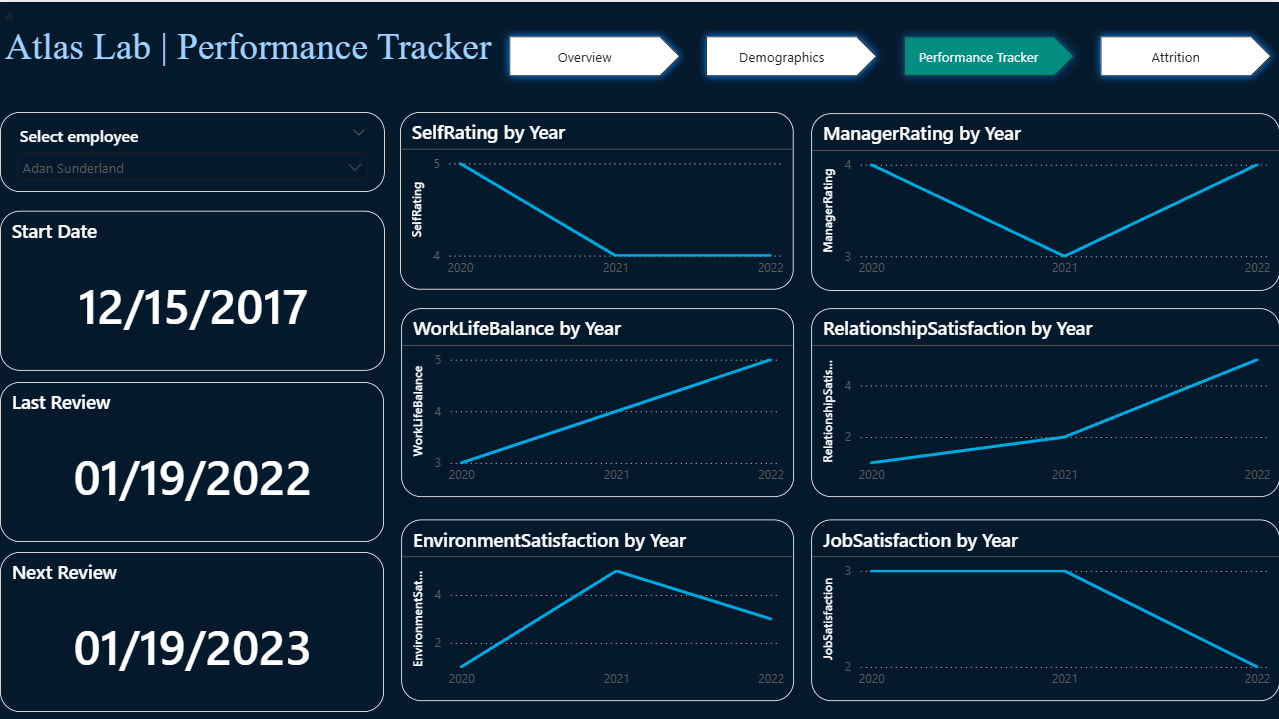

Layout of this report page (visuals, bound fields, positions):
{"tool":"powerbi","page":{"name":"Performance Tracker","canvas":[1280,720],"ordinal":2},"visuals":[{"type":"slicer","fields":{"Values":["DimEmployee.FullName"]},"box":[0,110.3,384.4,80.1],"z":0},{"type":"card","title":"Start Date","fields":{"Values":["Min(DimEmployee.HireDate)"]},"box":[0,208.2,384.4,160.2],"z":1000},{"type":"card","title":"Last Review","fields":{"Values":["_Measures.LastReviewDate"]},"box":[0,379.4,383.8,160.1],"z":2000},{"type":"card","title":"Next Review","fields":{"Values":["_Measures.NextReviewDate"]},"box":[0,549.7,383.8,160.1],"z":3000},{"type":"lineChart","fields":{"Y":["_Measures.JobSatisfaction"],"Category":["DimDate.Date.Variation.Date Hierarchy.Year"]},"box":[810.8,518,468.9,181.8],"z":4000},{"type":"lineChart","fields":{"Y":["_Measures.EnvironmentSatisfaction"],"Category":["DimDate.Date.Variation.Date Hierarchy.Year"]},"box":[401.1,518,392.4,181.8],"z":5000},{"type":"lineChart","fields":{"Y":["_Measures.WorkLifeBalance"],"Category":["DimDate.Date.Variation.Date Hierarchy.Year"]},"box":[401.1,305.9,392.4,189],"z":6000},{"type":"lineChart","fields":{"Y":["_Measures.RelationshipSatisfaction"],"Category":["DimDate.Date.Variation.Date Hierarchy.Year"]},"box":[810.8,305.9,468.9,189],"z":7000},{"type":"lineChart","fields":{"Y":["_Measures.SelfRating"],"Category":["DimDate.Date.Variation.Date Hierarchy.Year"]},"box":[400.5,110.3,393.3,178],"z":8000},{"type":"lineChart","fields":{"Y":["_Measures.ManagerRating"],"Category":["DimDate.Date.Variation.Date Hierarchy.Year"]},"box":[810.8,111.1,468.9,177.5],"z":9000},{"type":"textbox","box":[0,0,1279.7,108.6],"z":10000},{"type":"pageNavigator","box":[500.6,26,779.1,56.3],"z":11000}]}

Visuals, with their boxes in screenshot pixels (x1, y1, x2, y2), scaled from the page's 1280x720 canvas onto the 1279x719 screenshot:
slicer - DimEmployee.FullName: (0,110,384,190)
"Start Date" card: (0,208,384,368)
"Last Review" card: (0,379,384,539)
"Next Review" card: (0,549,384,709)
lineChart - _Measures.JobSatisfaction x DimDate.Date.Variation.Date Hierarchy.Year: (810,517,1278,699)
lineChart - _Measures.EnvironmentSatisfaction x DimDate.Date.Variation.Date Hierarchy.Year: (401,517,793,699)
lineChart - _Measures.WorkLifeBalance x DimDate.Date.Variation.Date Hierarchy.Year: (401,305,793,494)
lineChart - _Measures.RelationshipSatisfaction x DimDate.Date.Variation.Date Hierarchy.Year: (810,305,1278,494)
lineChart - _Measures.SelfRating x DimDate.Date.Variation.Date Hierarchy.Year: (400,110,793,288)
lineChart - _Measures.ManagerRating x DimDate.Date.Variation.Date Hierarchy.Year: (810,111,1278,288)
textbox: (0,0,1278,108)
pageNavigator: (500,26,1278,82)
